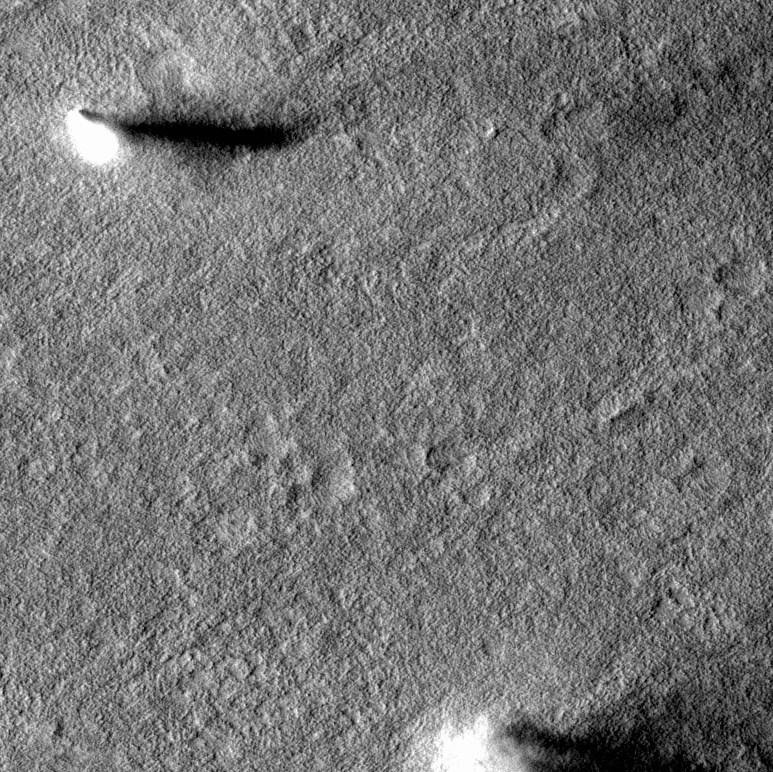dust_devil: (417, 702, 742, 772), (63, 103, 325, 169)
